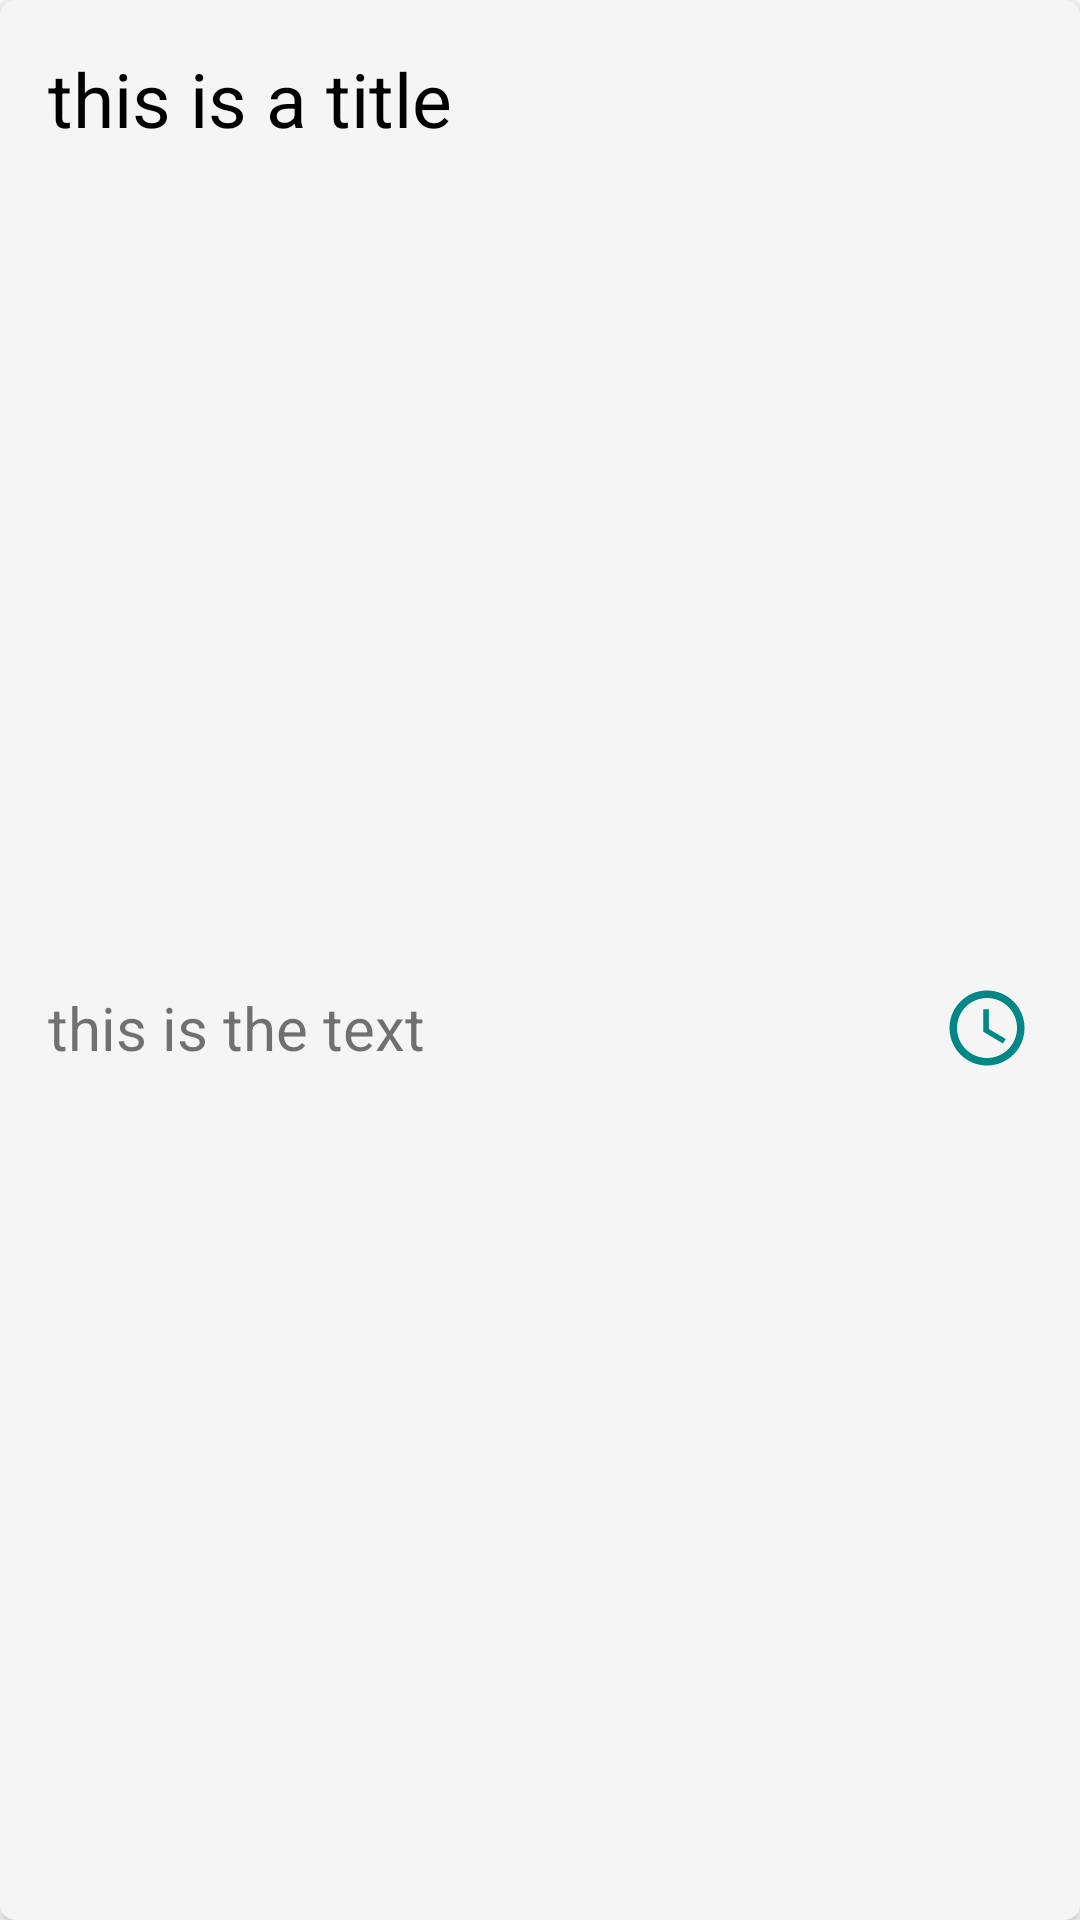

Icon click points for this 1080 × 1920 phone screenshot, format point (x, y):
schedule: point (987, 1028)
